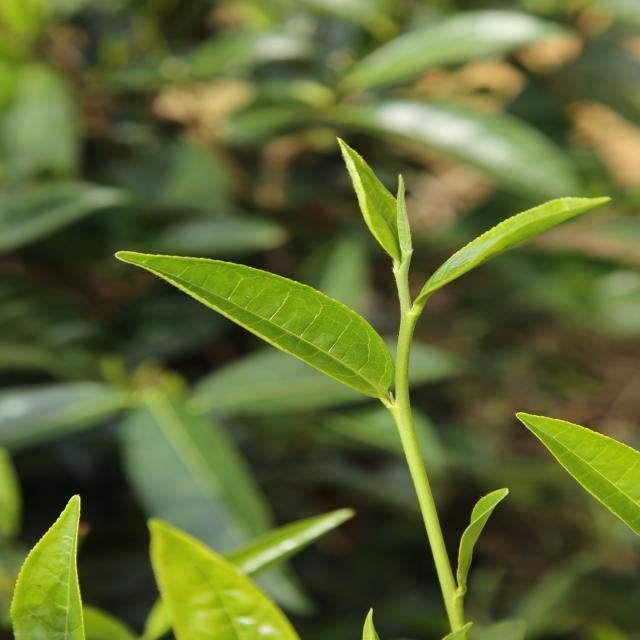Stem: (395, 322, 416, 364)
